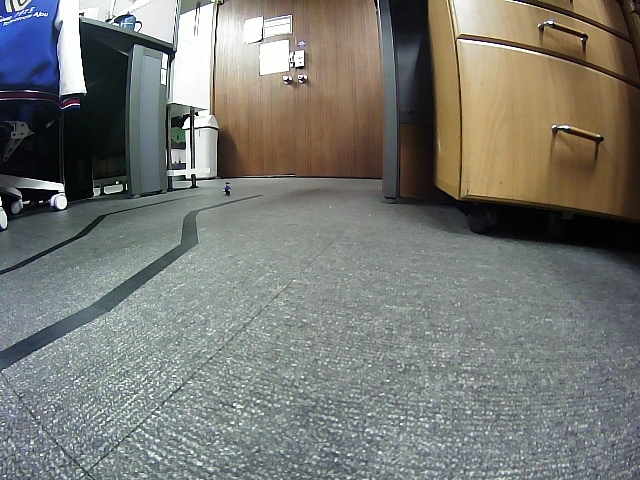person: (222, 181, 231, 197)
